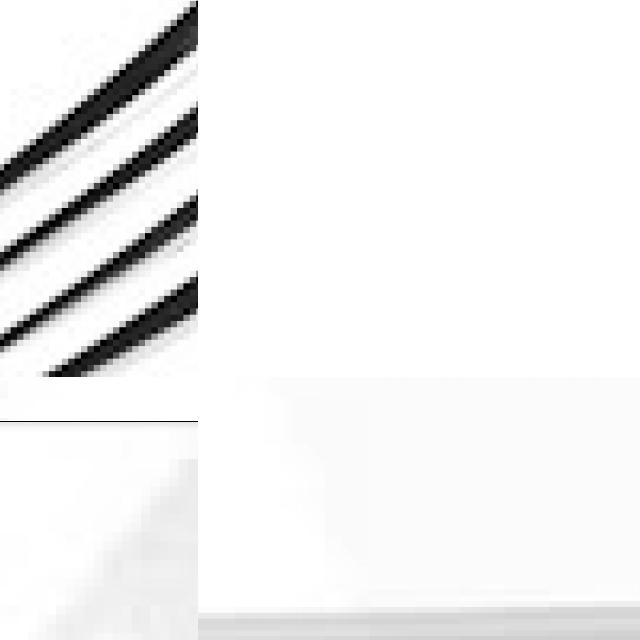forks: (0, 0, 198, 377), (0, 396, 198, 640)
